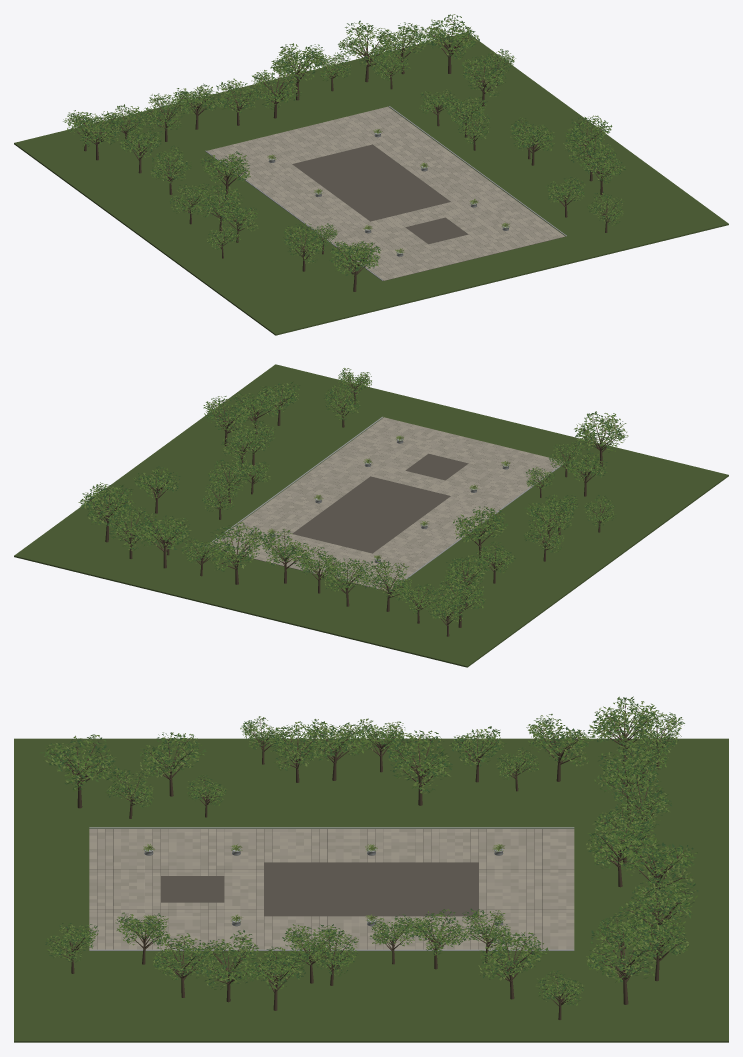
The model's file is landscape.glb.
The picture shows the model from 3 angles, top to bottom: view 1: azimuth 30°, elevation 25°; view 2: azimuth 150°, elevation 25°; view 3: azimuth 270°, elevation 25°; orthographic projection. The views are drawn at different scales.
Parts seen in each view (by area): view 1: landscape • PBR, Tree 36 • Tree prototype leaves 0; view 2: landscape • PBR, Tree 32 • Tree prototype leaves 0.002, Tree 32 • Tree prototype leaves 1.002, Tree 32 • Tree prototype leaves 3.002; view 3: landscape • PBR, Tree 36 • Tree prototype leaves 0, Tree 32 • Tree prototype leaves 1.002, Tree 36 • Tree prototype leaves 1, Tree 32 • Tree prototype leaves 0.002, Tree 36 • Tree prototype leaves 2, Tree 36 • Tree prototype leaves 3, Tree 00 • Tree prototype leaves 0, Tree 08 • Tree prototype leaves 1.002, Tree 32 • Tree prototype leaves 3.002, Tree 08 • Tree prototype leaves 0.002, Tree 32 • Tree prototype leaves 2.002 (+30 smaller).
Boxes of the visible parts, x1=… form: landscape • PBR: x1=14, y1=32, x2=728, y2=335; Tree 36 • Tree prototype leaves 0: x1=421, y1=14, x2=475, y2=58; landscape • PBR: x1=14, y1=364, x2=728, y2=667; Tree 32 • Tree prototype leaves 0.002: x1=211, y1=525, x2=265, y2=570; Tree 32 • Tree prototype leaves 1.002: x1=210, y1=522, x2=263, y2=569; Tree 32 • Tree prototype leaves 3.002: x1=210, y1=523, x2=266, y2=571; landscape • PBR: x1=14, y1=738, x2=728, y2=1042; Tree 36 • Tree prototype leaves 0: x1=587, y1=922, x2=666, y2=982; Tree 32 • Tree prototype leaves 1.002: x1=617, y1=830, x2=696, y2=889; Tree 36 • Tree prototype leaves 1: x1=586, y1=923, x2=665, y2=982; Tree 32 • Tree prototype leaves 0.002: x1=614, y1=827, x2=697, y2=887; Tree 36 • Tree prototype leaves 2: x1=586, y1=924, x2=665, y2=980; Tree 36 • Tree prototype leaves 3: x1=589, y1=925, x2=665, y2=982; Tree 00 • Tree prototype leaves 0: x1=39, y1=734, x2=116, y2=788; Tree 08 • Tree prototype leaves 1.002: x1=388, y1=731, x2=449, y2=793; Tree 32 • Tree prototype leaves 3.002: x1=620, y1=828, x2=693, y2=886; Tree 08 • Tree prototype leaves 0.002: x1=387, y1=730, x2=452, y2=793; Tree 32 • Tree prototype leaves 2.002: x1=619, y1=830, x2=693, y2=889.
Bounding box in the file's own units: 90 × 10.45 × 89.93.
